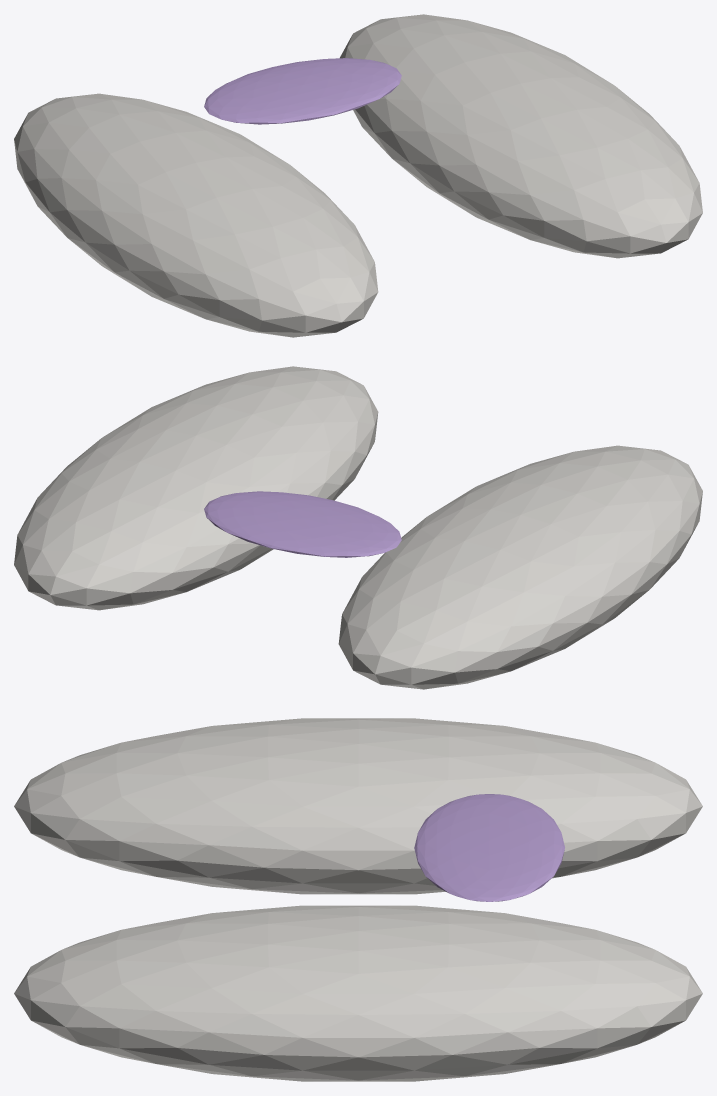
The model's file is reproductive_privacy_educational.glb.
3 renders of one model, top to bottom at view 1: azimuth 30°, elevation 25°; view 2: azimuth 150°, elevation 25°; view 3: azimuth 270°, elevation 25°, orthographic. The views are drawn at different scales.
Visible parts, largest first — view 1: Siluet Perempuan, Siluet Laki-laki, Zona Privasi; view 2: Siluet Perempuan, Siluet Laki-laki, Zona Privasi; view 3: Siluet Laki-laki, Siluet Perempuan, Zona Privasi.
Part boxes in pixels (x1,y1,x2,y2): Siluet Perempuan: [14, 93, 378, 337]; Siluet Laki-laki: [340, 14, 702, 258]; Zona Privasi: [204, 58, 401, 124]; Siluet Perempuan: [338, 445, 702, 689]; Siluet Laki-laki: [14, 366, 378, 610]; Zona Privasi: [204, 491, 401, 557]; Siluet Laki-laki: [14, 905, 702, 1081]; Siluet Perempuan: [14, 718, 702, 894]; Zona Privasi: [414, 794, 564, 901].
Bounding box in the file's own units: 4.54 × 0.84 × 4.2.
